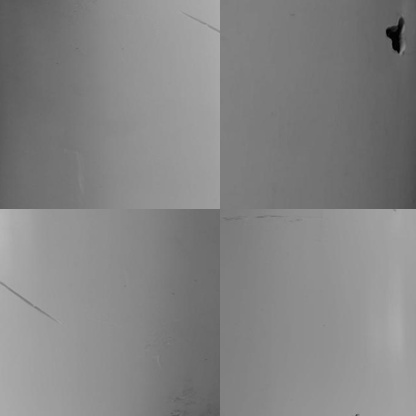kongdong: (382, 16, 407, 55)
sunshang: (1, 277, 56, 322), (179, 10, 218, 34)
